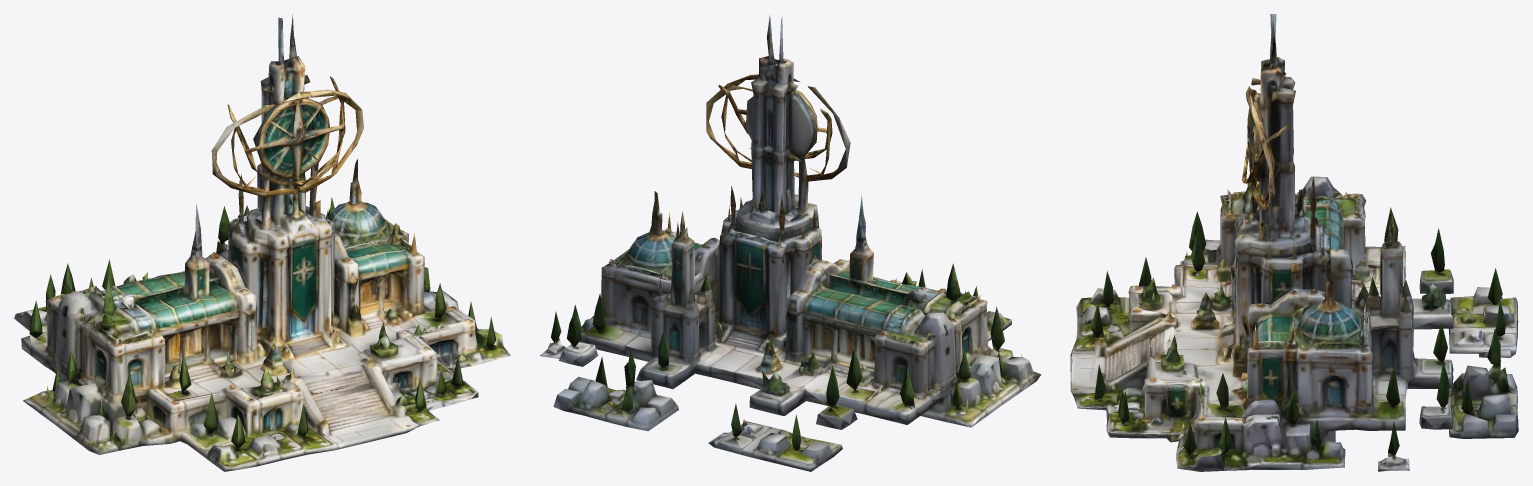
File: HL_Orion_CommandCenter_v01_retopo.glb
The picture shows the model from 3 angles, left to right: view 1: azimuth 30°, elevation 25°; view 2: azimuth 150°, elevation 25°; view 3: azimuth 270°, elevation 25°; orthographic projection. The views are drawn at different scales.
Parts seen in each view (by area): view 1: HL_Orion_CommandCenter_v01_retopo; view 2: HL_Orion_CommandCenter_v01_retopo; view 3: HL_Orion_CommandCenter_v01_retopo.
Boxes of the visible parts, bbox=[...] form: HL_Orion_CommandCenter_v01_retopo: bbox=[14, 14, 510, 471]; HL_Orion_CommandCenter_v01_retopo: bbox=[540, 15, 1041, 471]; HL_Orion_CommandCenter_v01_retopo: bbox=[1070, 14, 1518, 471].
Size of the model in its own units: 0.9822 by 0.7855 by 0.8755.
Materials: 1 (1 with a texture image).
